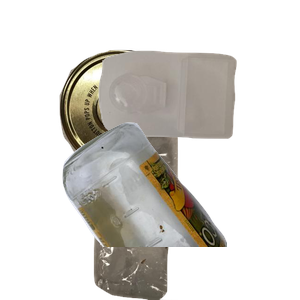glass: (60, 120, 300, 300)
metal: (57, 47, 227, 211)
plastic: (96, 48, 300, 179)
trash: (70, 120, 256, 300)
